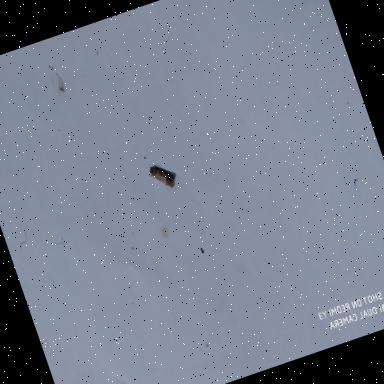pbw: (145, 157, 181, 196)
